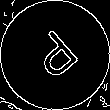P_SE: (24, 24, 86, 86)
